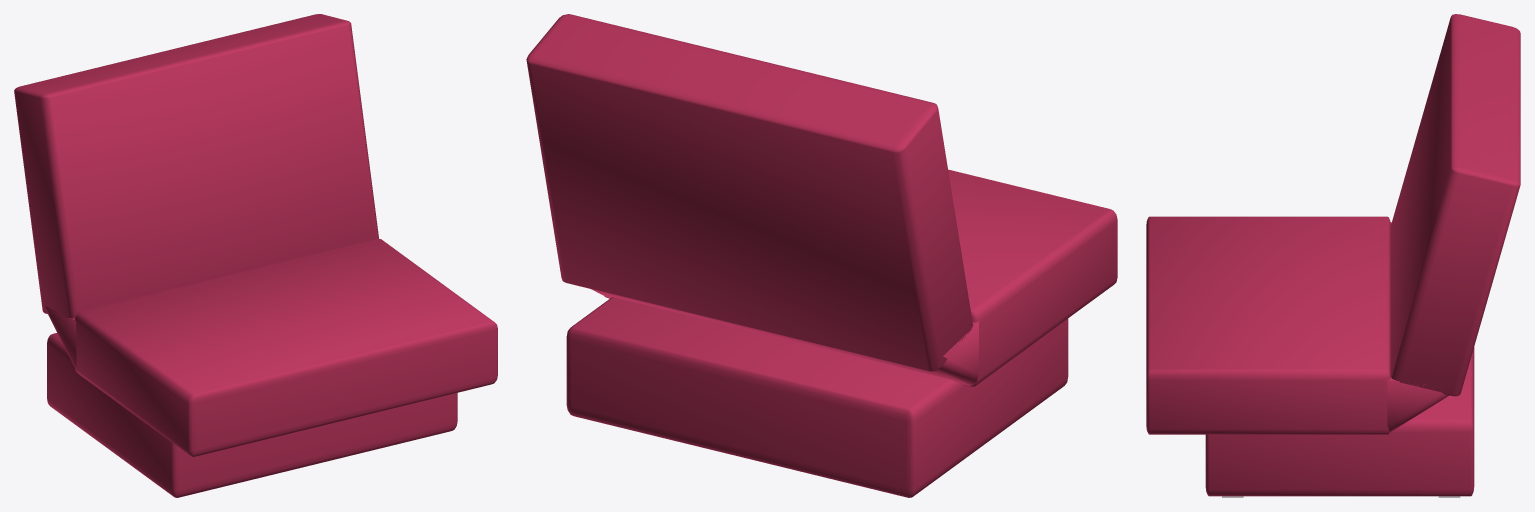
The model's file is sh-contrib-clic-clac.glb.
The picture shows the model from 3 angles, left to right: view 1: azimuth 30°, elevation 25°; view 2: azimuth 150°, elevation 25°; view 3: azimuth 270°, elevation 25°; orthographic projection. The views are drawn at different scales.
Parts seen in each view (by area): view 1: mattress_1; view 2: mattress_1; view 3: mattress_1.
Part boxes in pixels (<box>): mattress_1: <box>14,14,497,497</box>; mattress_1: <box>526,14,1117,497</box>; mattress_1: <box>1146,14,1520,496</box>.
Bounding box in the file's own units: 1 × 1 × 1.
